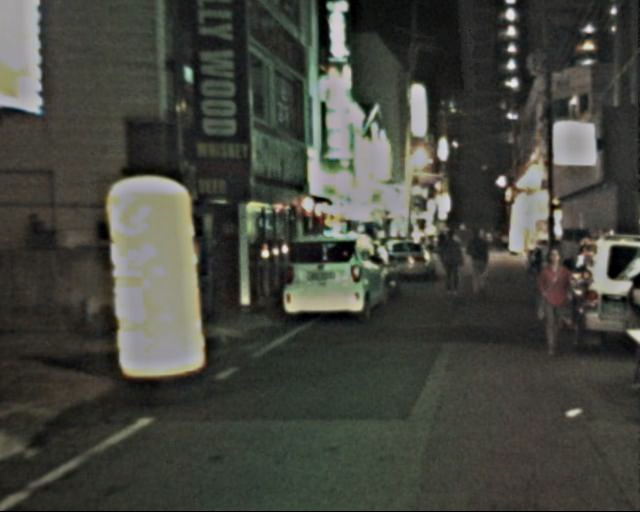person: (530, 248, 579, 360), (436, 230, 471, 302), (464, 229, 499, 301)
